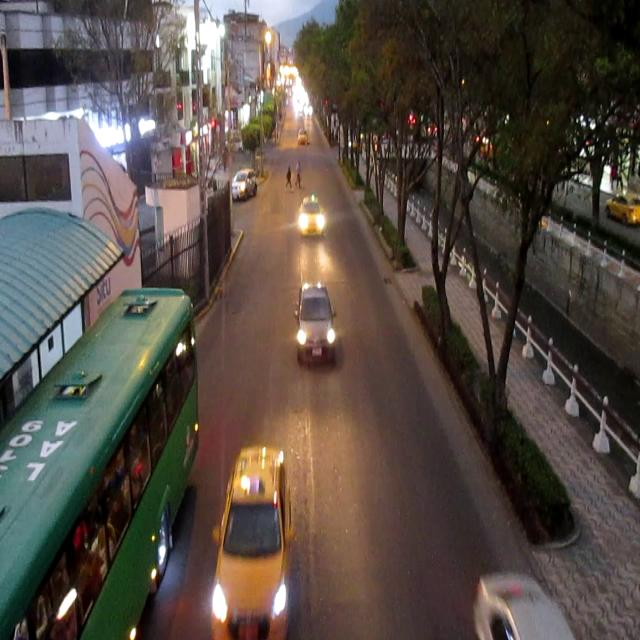BUS: (4, 286, 203, 636)
SUV: (234, 170, 257, 200)
